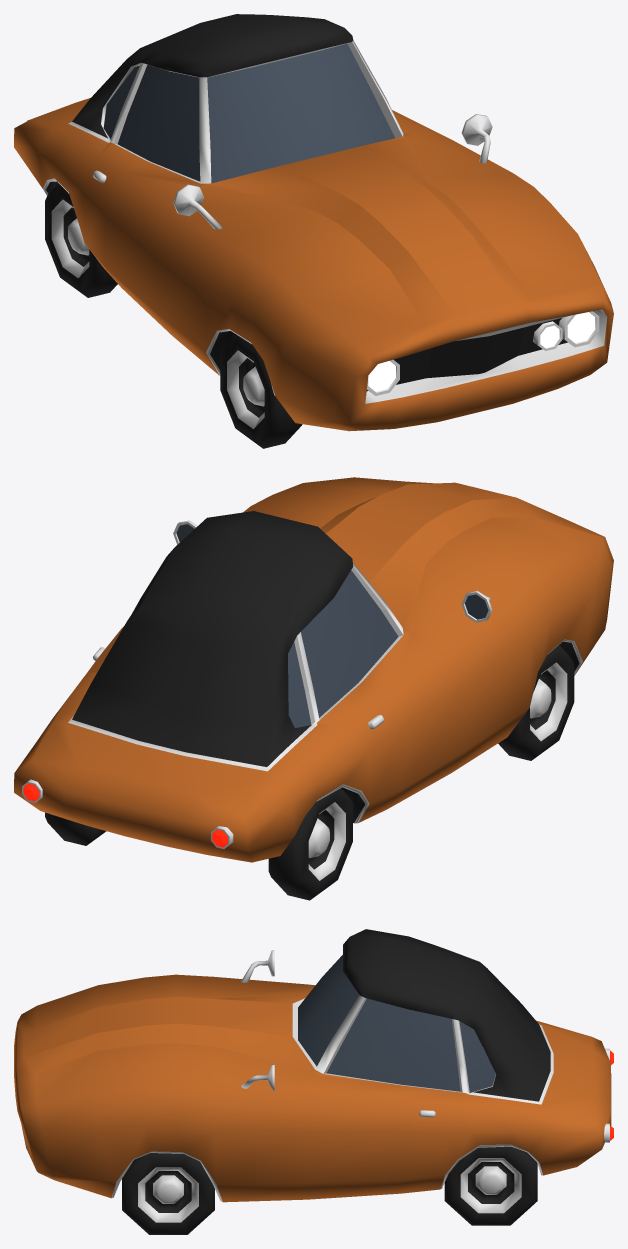
File: Goranmovil.fbx
3 renders of one model, top to bottom at view 1: azimuth 30°, elevation 25°; view 2: azimuth 150°, elevation 25°; view 3: azimuth 270°, elevation 25°, orthographic. The views are drawn at different scales.
Parts seen in each view (by area): view 1: Goranmovil; view 2: Goranmovil; view 3: Goranmovil.
Part boxes in pixels (x1,y1,x2,y2): Goranmovil: (14,14,613,448); Goranmovil: (14,477,613,900); Goranmovil: (14,929,613,1234).
Size of the model in its own units: 193 by 159 by 381.
